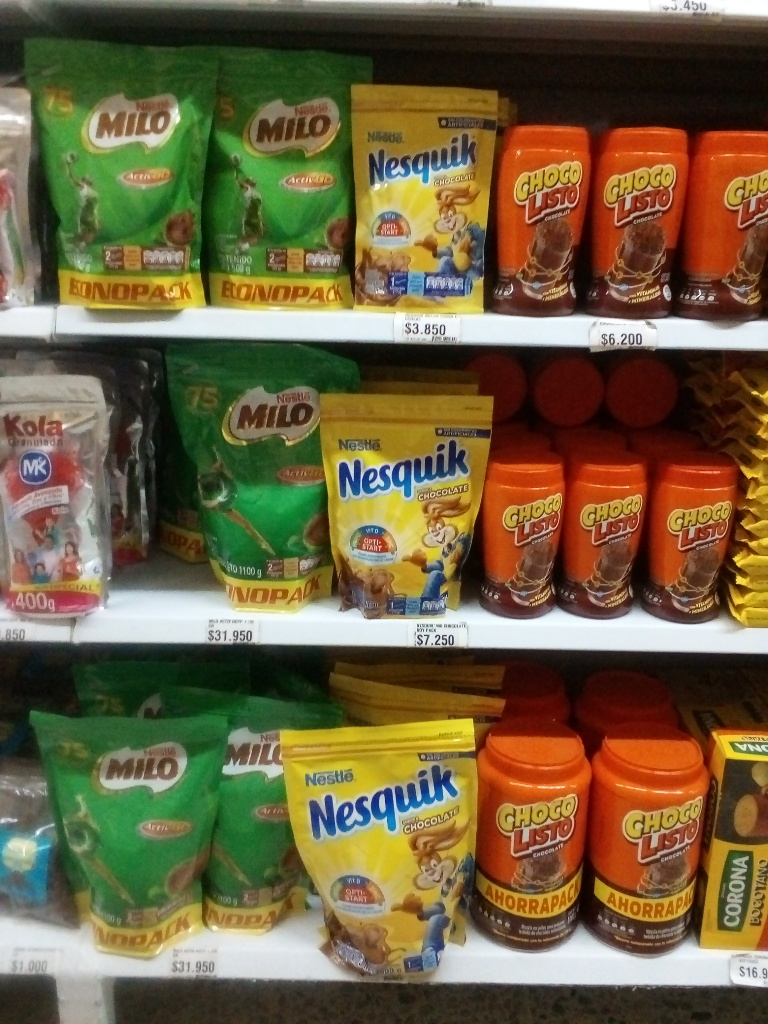COL0170103TRR00100: (589, 722, 709, 962)
